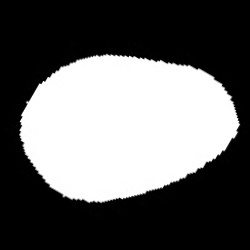spot: (21, 55, 235, 204)
